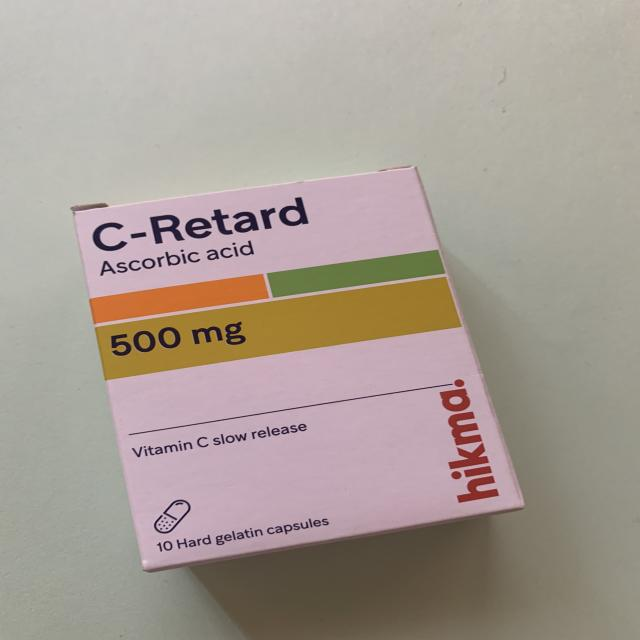C-Retard: (62, 168, 542, 582)
